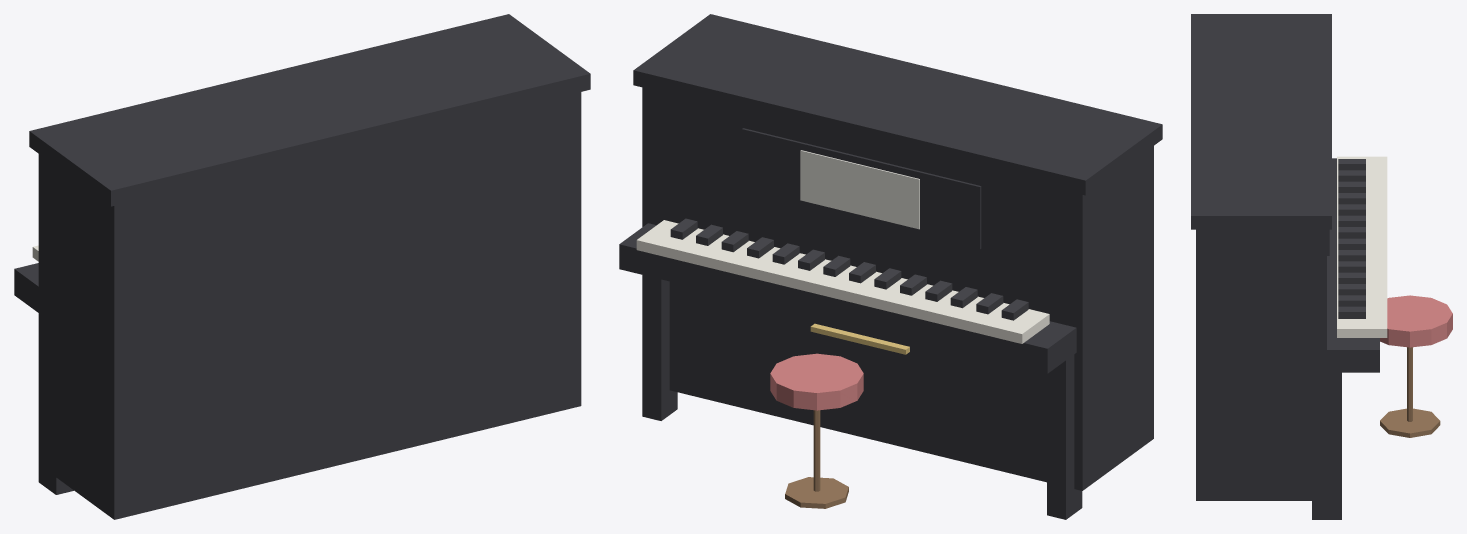
File: piano.glb
The picture shows the model from 3 angles, left to right: view 1: azimuth 30°, elevation 25°; view 2: azimuth 150°, elevation 25°; view 3: azimuth 270°, elevation 25°; orthographic projection. The views are drawn at different scales.
Visible parts, largest first — view 1: piano; view 2: piano; view 3: piano.
Boxes of the visible parts, x1,y1,x2,y2 form: piano: [14, 14, 590, 519]; piano: [619, 14, 1162, 519]; piano: [1191, 14, 1452, 519].
Bounding box in the file's own units: 1.9 × 1.36 × 1.04.
